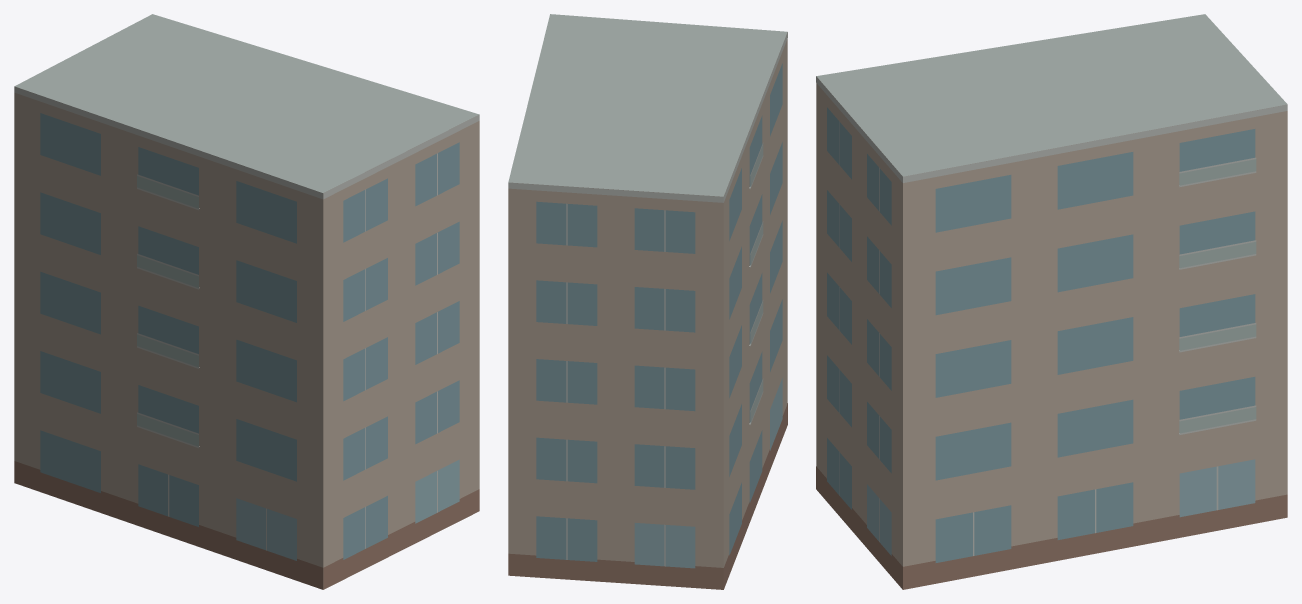
The model's file is survey-upis-32761140.glb.
3 renders of one model, left to right at view 1: azimuth 30°, elevation 25°; view 2: azimuth 150°, elevation 25°; view 3: azimuth 270°, elevation 25°, orthographic. The views are drawn at different scales.
Parts seen in each view (by area): view 1: survey-upis-32761140.tmp; view 2: survey-upis-32761140.tmp; view 3: survey-upis-32761140.tmp.
Boxes of the visible parts, x1,y1,x2,y2 form: survey-upis-32761140.tmp: (14, 14, 479, 589); survey-upis-32761140.tmp: (508, 14, 787, 589); survey-upis-32761140.tmp: (816, 14, 1287, 589).
Size of the model in its own units: 13.19 by 15.6 by 16.14.
